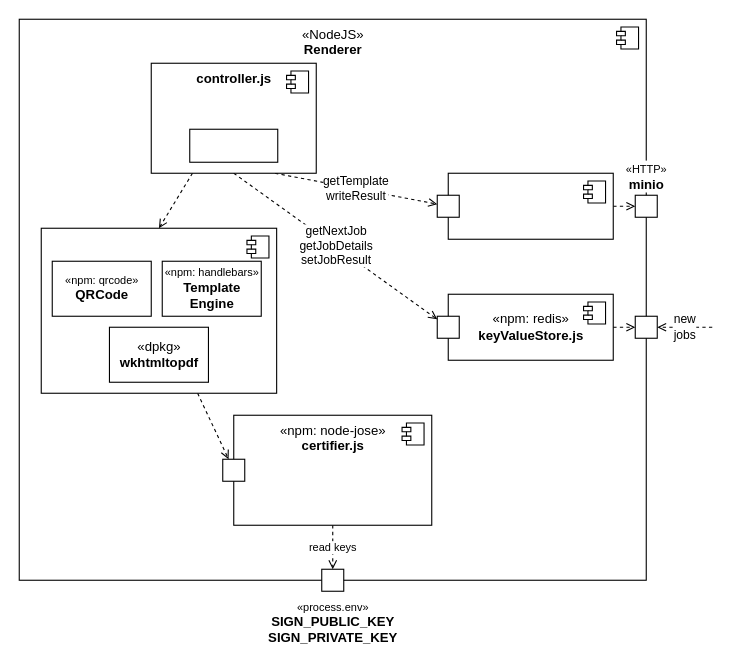
This 740x666 diagram has some shape labels left out. The box of each missing label's shape, as (x1, y1, x2, y2) in pixels:
documentHandler.js: (40, 227, 277, 393)
«HTTP» redis: (634, 315, 657, 338)
«loop» handleJob: (189, 128, 278, 162)
«method» sign(claim): signature: (222, 458, 245, 481)
«npm: minio» objectStrage.js: (447, 172, 613, 239)
